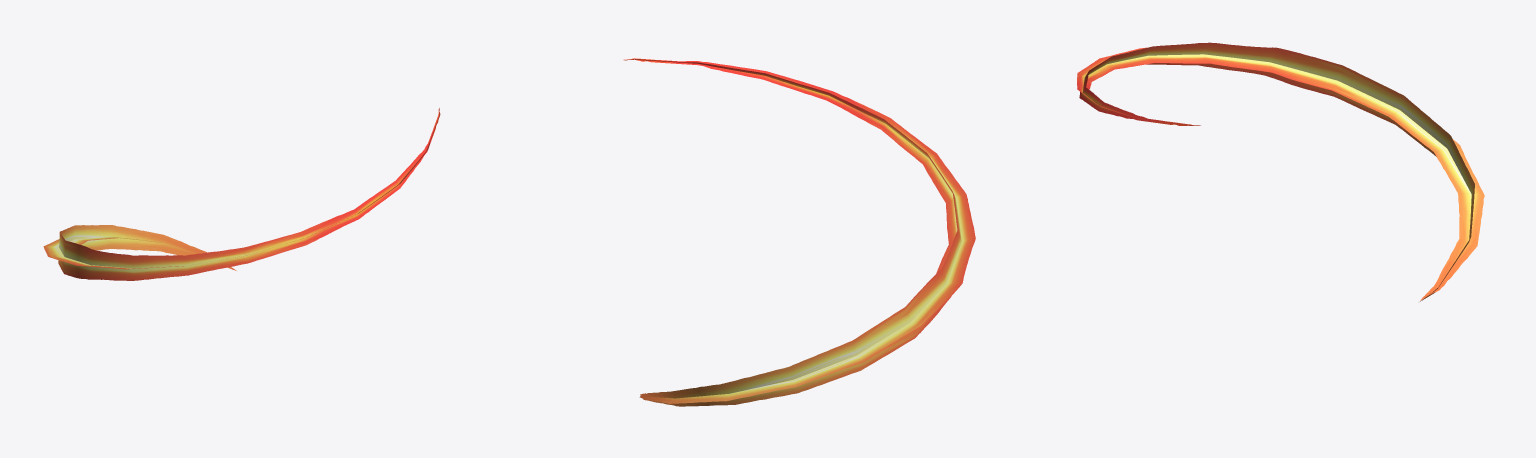
The model's file is helx4.FBX.
3 views of the same model, side by side, from view 1: azimuth 30°, elevation 25°; view 2: azimuth 150°, elevation 25°; view 3: azimuth 270°, elevation 25° (orthographic). The views are drawn at different scales.
Parts seen in each view (by area): view 1: Plane004; view 2: Plane004; view 3: Plane004.
Part boxes in pixels (x1,y1,x2,y2): Plane004: [43, 108, 440, 280]; Plane004: [623, 58, 975, 406]; Plane004: [1077, 42, 1484, 301].
Bounding box in the file's own units: 197 × 163 × 170.
